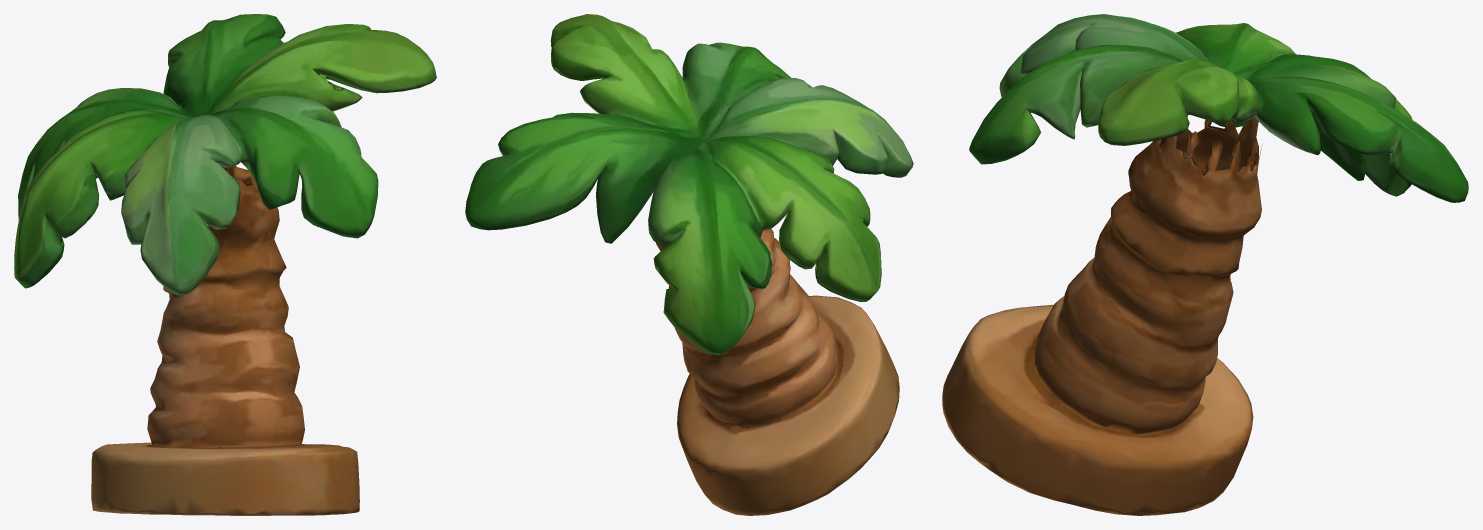
Rendered from sw-palm-b.glb.
The picture shows the model from 3 angles, left to right: view 1: azimuth 30°, elevation 25°; view 2: azimuth 150°, elevation 25°; view 3: azimuth 270°, elevation 25°; orthographic projection. The views are drawn at different scales.
Parts seen in each view (by area): view 1: geometry_0; view 2: geometry_0; view 3: geometry_0.
Part boxes in pixels (x1,y1,x2,y2): geometry_0: (14, 14, 436, 515); geometry_0: (465, 14, 913, 515); geometry_0: (942, 14, 1468, 515).
Size of the model in its own units: 0.7538 by 0.8794 by 0.839.
1 material, 1 textured.
